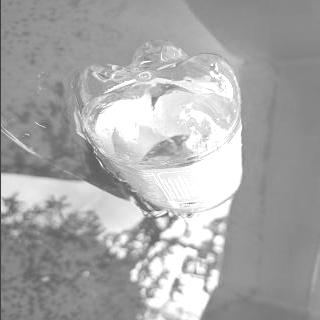bottle: (73, 36, 246, 216)
